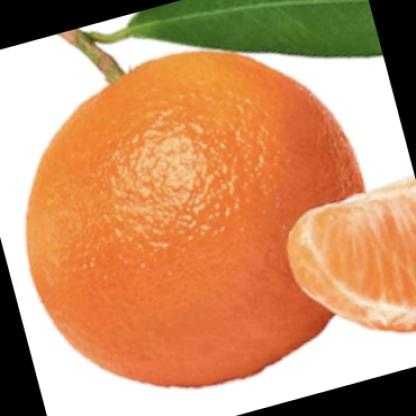fresh: (30, 54, 366, 388)
